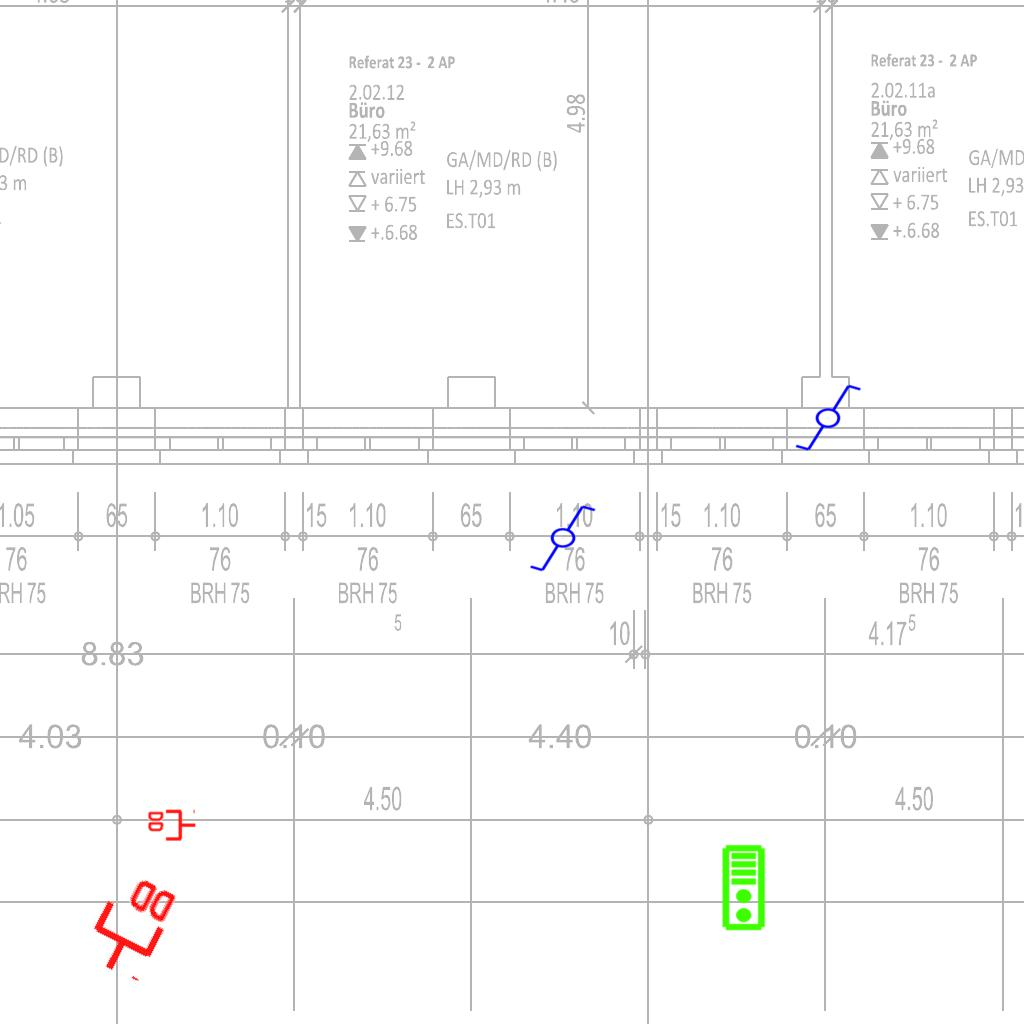Datenanschluss_zweifach: (75, 862, 184, 987), (146, 809, 197, 843)
Gegensprechanlage_mit_Video: (721, 844, 768, 932)
Wechselschalter: (785, 381, 863, 453), (528, 503, 606, 575)
